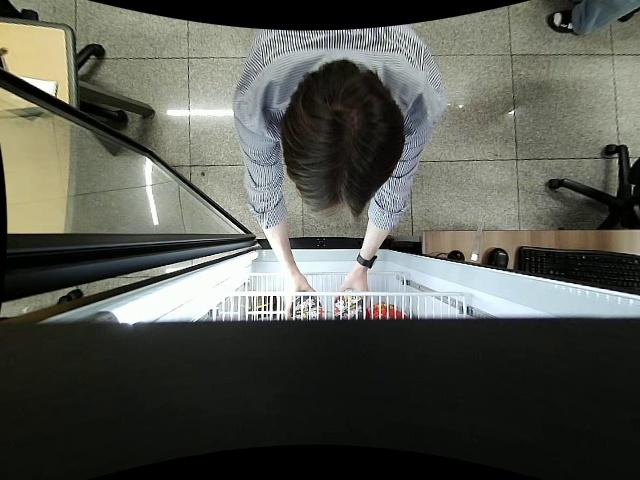00_hand: (281, 278, 321, 323), (329, 276, 371, 314)
08_buldak_S: (329, 286, 365, 319), (287, 296, 320, 322)
